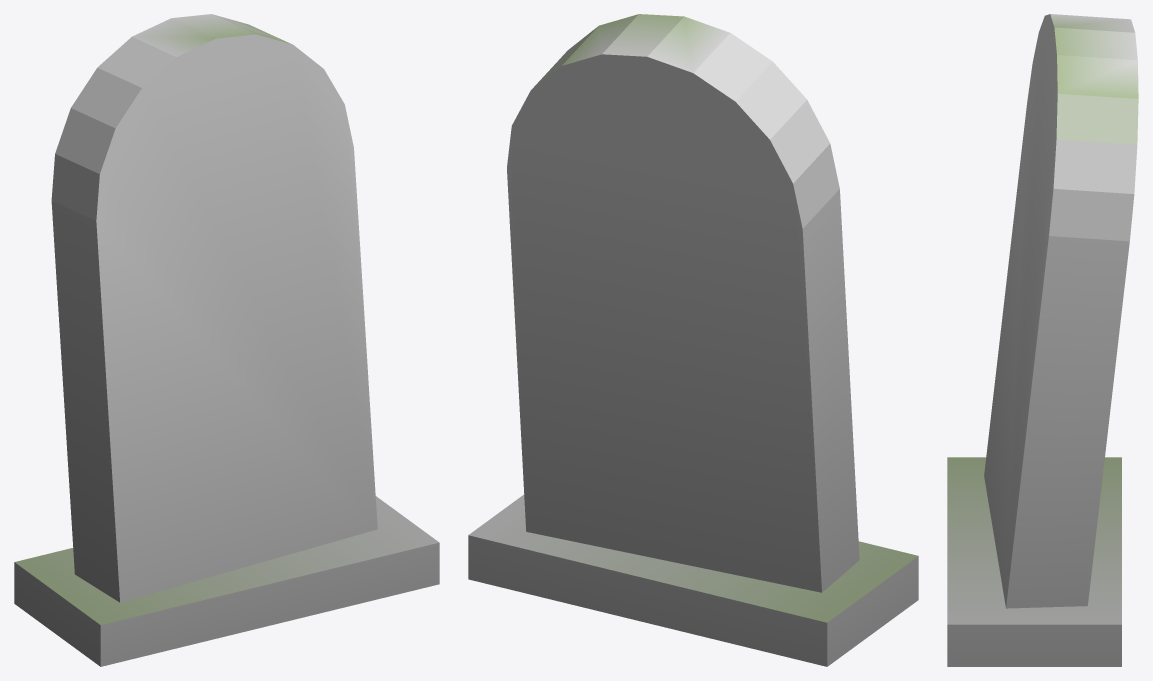
File: gravestone.glb
3 renders of one model, left to right at view 1: azimuth 30°, elevation 25°; view 2: azimuth 150°, elevation 25°; view 3: azimuth 270°, elevation 25°, orthographic. The views are drawn at different scales.
Visible parts, largest first — view 1: gravestone; view 2: gravestone; view 3: gravestone.
Part boxes in pixels (x1=…): gravestone: x1=14, y1=14, x2=439, y2=666; gravestone: x1=468, y1=14, x2=918, y2=666; gravestone: x1=947, y1=14, x2=1138, y2=666.
Size of the model in its own units: 0.68 by 1.05 by 0.3284.
